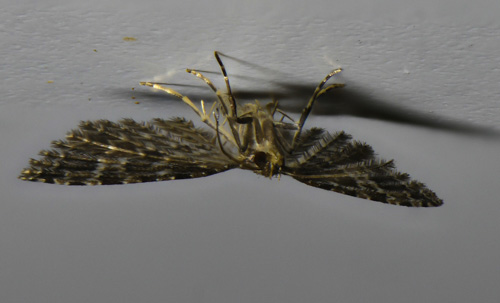Alucitidae: (17, 47, 452, 217)
moth: (19, 49, 454, 219)
